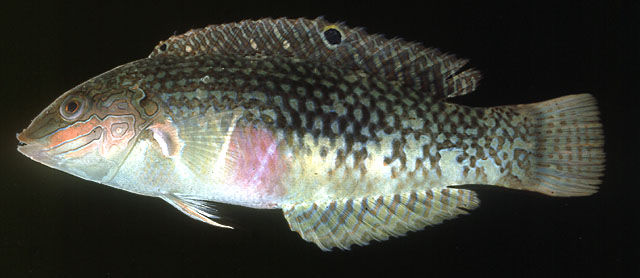fish: (14, 15, 606, 253)
